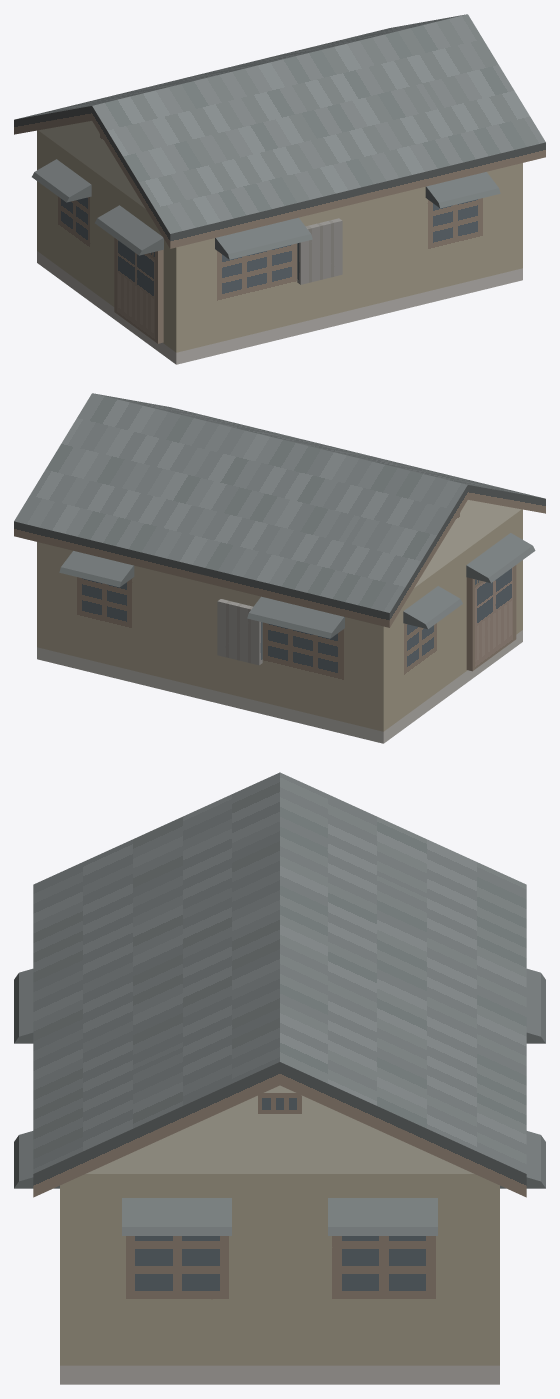
File: 0575_Hara_Residence.glb
The picture shows the model from 3 angles, top to bottom: view 1: azimuth 30°, elevation 25°; view 2: azimuth 150°, elevation 25°; view 3: azimuth 270°, elevation 25°; orthographic projection. The views are drawn at different scales.
Parts seen in each view (by area): view 1: part_0; view 2: part_0; view 3: part_0.
Boxes of the visible parts, box(x1,y1,x2,y2) form: part_0: box(14, 14, 545, 364); part_0: box(14, 393, 545, 743); part_0: box(14, 772, 545, 1384).
Size of the model in its own units: 9.53 by 4.86 by 7.01.
Materials: 1 (1 with a texture image).
